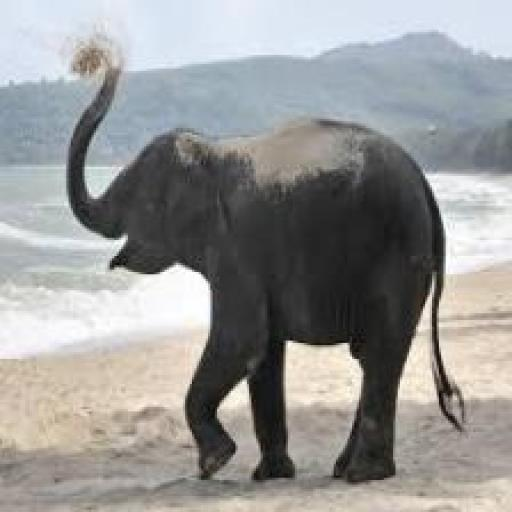Elephant: (50, 64, 477, 489)
